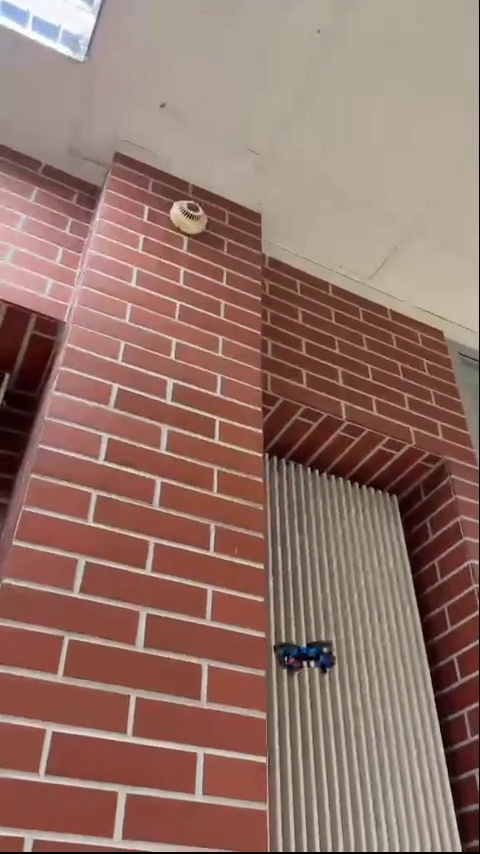drone: (274, 635, 335, 672)
